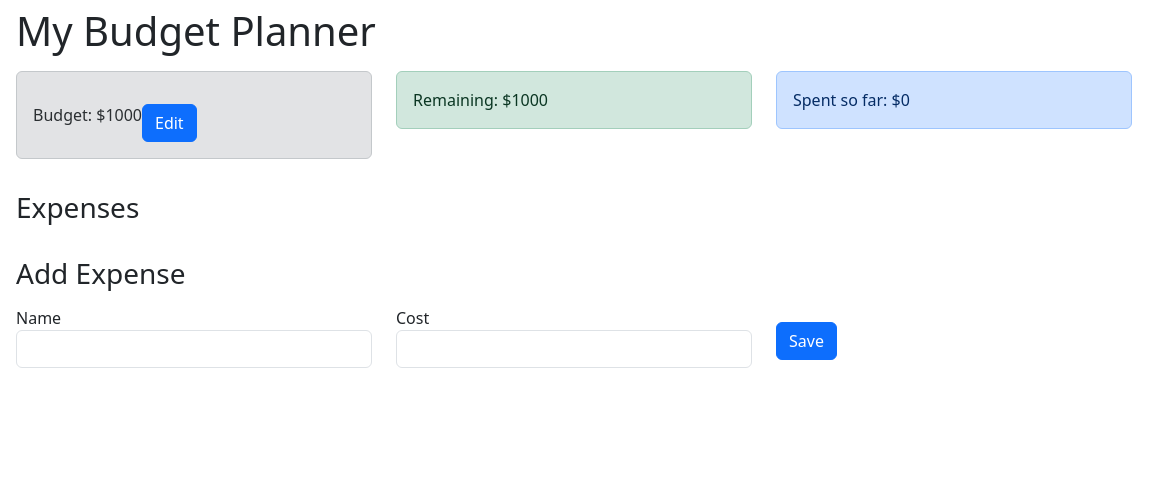
Test: Budget balance verification › create new expenses then verify budget, then delete then verify again
The image size is (1149, 480).
Expected: the text "Remaining: $1000" is shown, [413, 89, 548, 111]
Expected: the text "Spent so far: $0" is shown, [793, 89, 910, 111]
Type "My new expense" into the field labelled "Name" at (194, 349), box [16, 330, 372, 368]
Type "10" into the field labelled "Cost" at (574, 349), box [396, 330, 752, 368]
Click the button "Save" at (806, 341), box [776, 322, 837, 360]
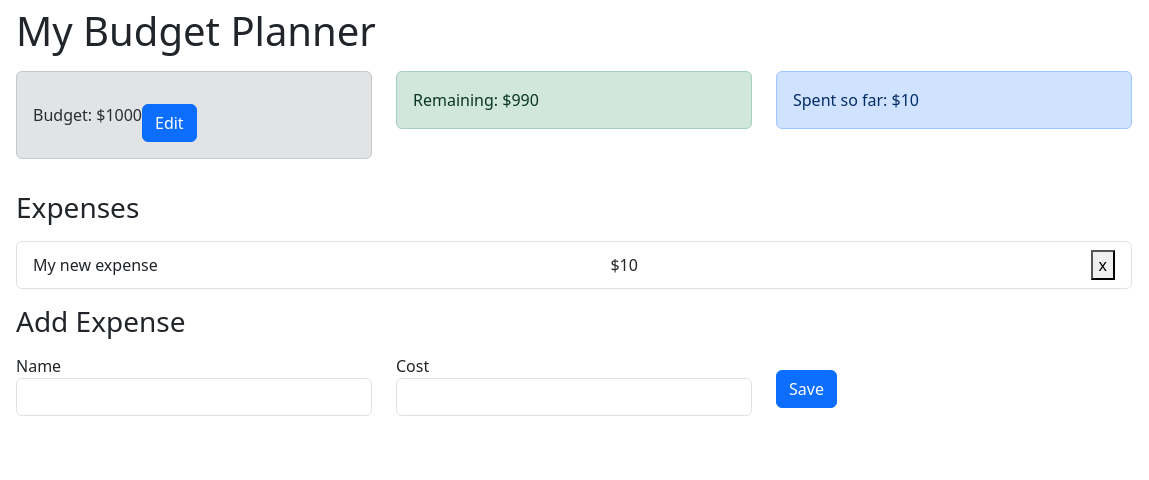
Result: the text "My new expense" is shown at [33, 253, 158, 277]
Result: the text "Remaining: $990" is shown at [413, 89, 539, 111]
Result: the text "Spent so far: $10" is shown at [793, 89, 919, 111]
Type "My second expense" into the field labelled "Name" at (194, 397), box [16, 378, 372, 416]
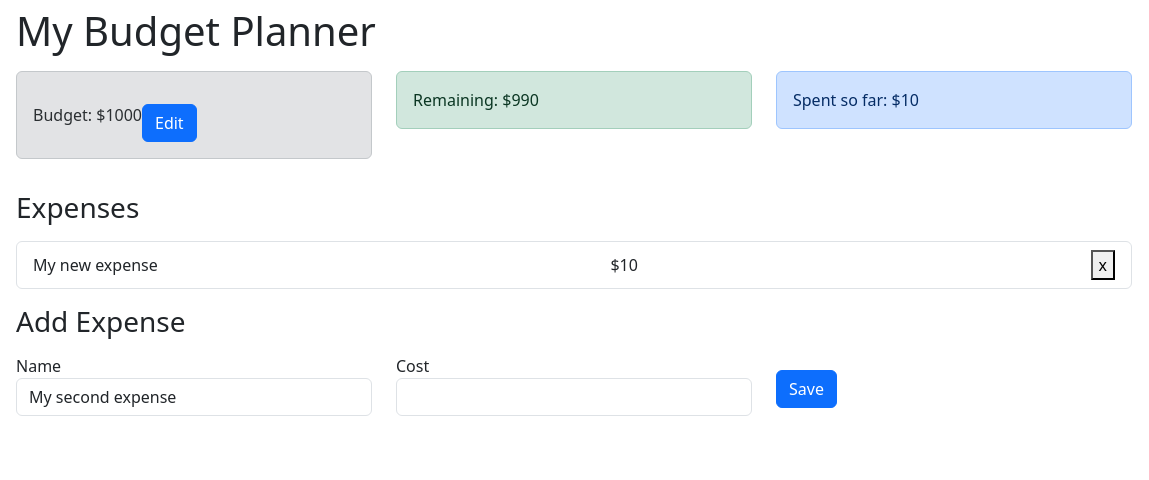
Type "20" into the field labelled "Cost" at (574, 397), box [396, 378, 752, 416]
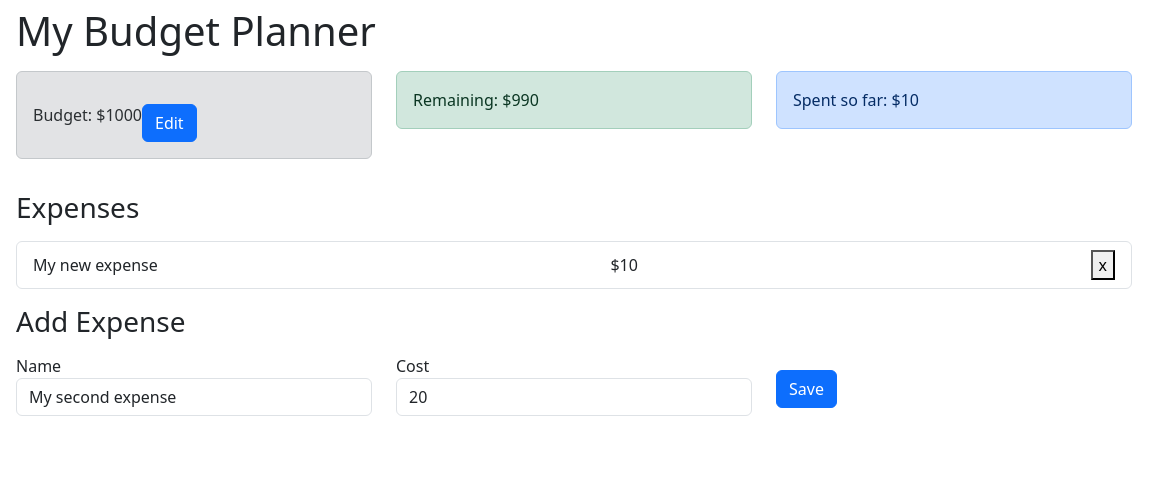
Click the button "Save" at (806, 389), box [776, 370, 837, 408]
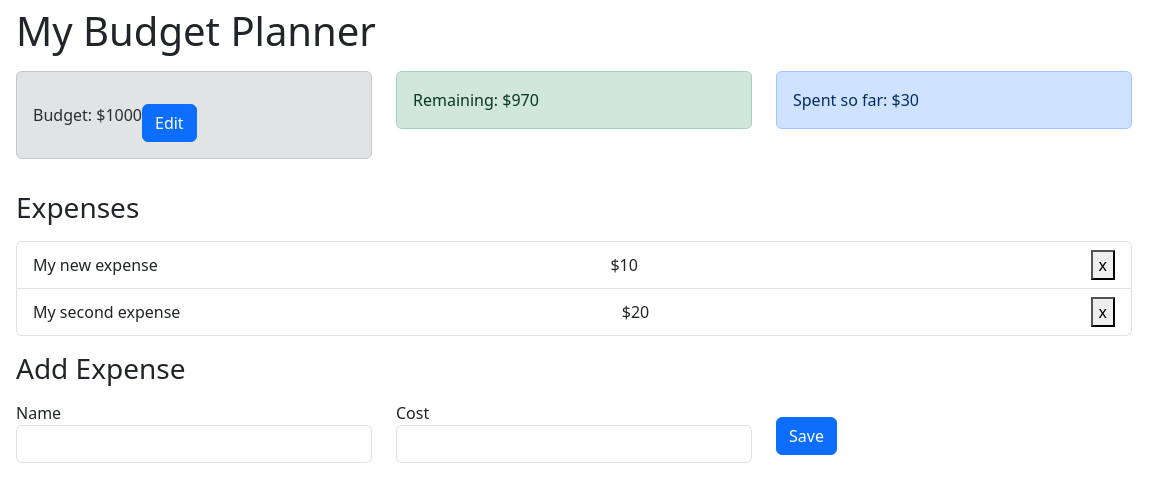
Result: the text "My second expense" is shown at [33, 300, 180, 324]
Result: the text "Remaining: $970" is shown at [413, 89, 539, 111]
Result: the text "Spent so far: $30" is shown at [793, 89, 919, 111]
// delete and consistently check if remaining and spent adds up to budget
Click the button "x" in the row of "My second expense" at (1103, 312), box [1090, 297, 1115, 327]
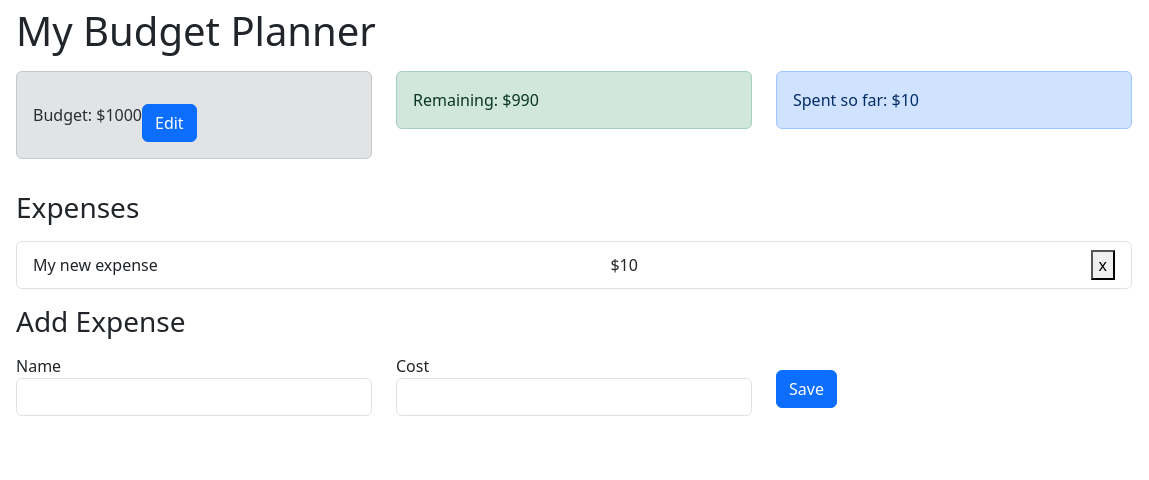
Expected: the text "Budget: $1000" is shown, [33, 103, 142, 127]
Result: the text "Remaining: $990" is shown at [413, 89, 539, 111]
Result: the text "Spent so far: $10" is shown at [793, 89, 919, 111]
Click the button "x" at (1103, 265), box [1090, 250, 1115, 280]
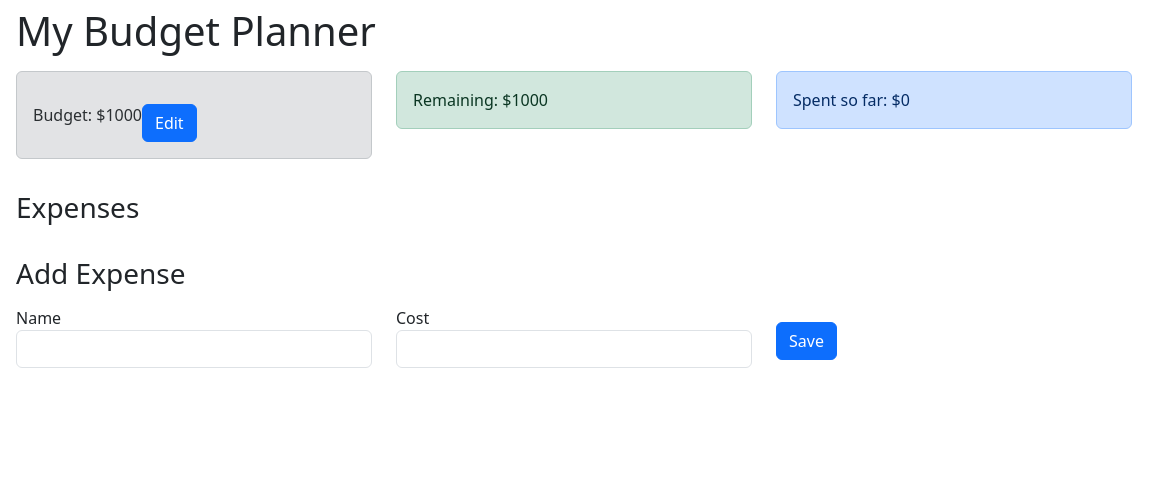
Expected: the text "Budget: $1000" is shown, [33, 103, 142, 127]
Result: the text "Remaining: $1000" is shown at [413, 89, 548, 111]
Result: the text "Spent so far: $0" is shown at [793, 89, 910, 111]
